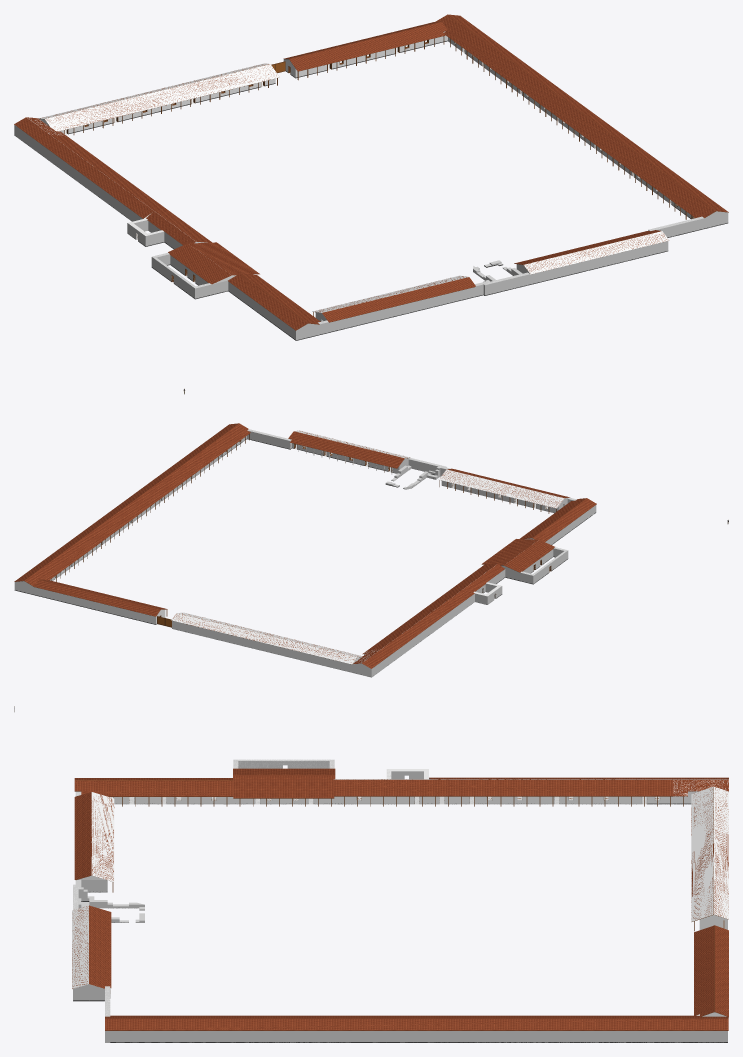
The model's file is 1815 Presidio_textured_location_update.dae.
3 views of the same model, one above another, from view 1: azimuth 30°, elevation 25°; view 2: azimuth 150°, elevation 25°; view 3: azimuth 270°, elevation 25° (orthographic). The views are drawn at different scales.
Parts seen in each view (by area): view 1: group_0 (×16); view 2: group_0 (×14); view 3: group_0 (×19).
Boxes of the visible parts, x1,y1,x2,y2 form: group_0 (×16): (14, 14, 728, 340); group_0 (×14): (14, 423, 596, 676); group_0 (×19): (72, 759, 728, 1042).
Bounding box in the file's own units: 7213 × 6582 × 181.
